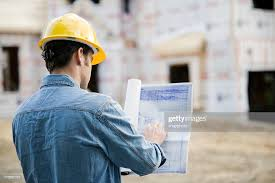Person_wearing_helmet: (43, 12, 106, 71)
